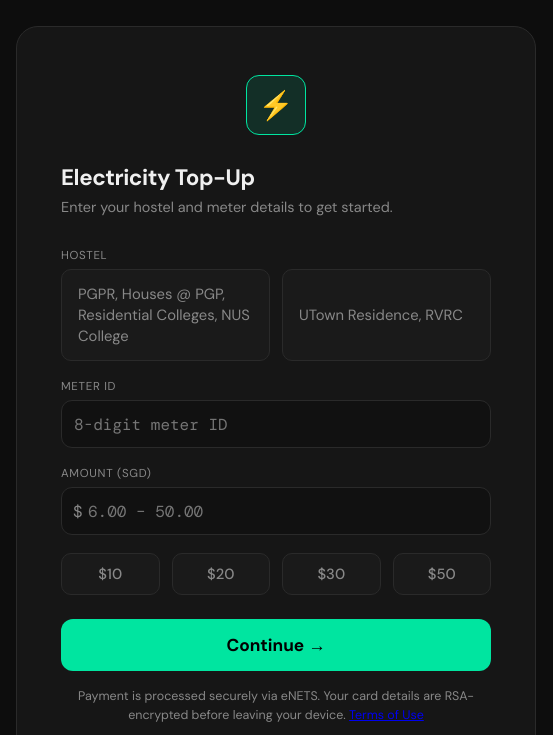
Test: HomePage › validation › shows all three errors when form is submitted empty
Click the button "Continue →": (276, 645) [61, 619, 491, 671]
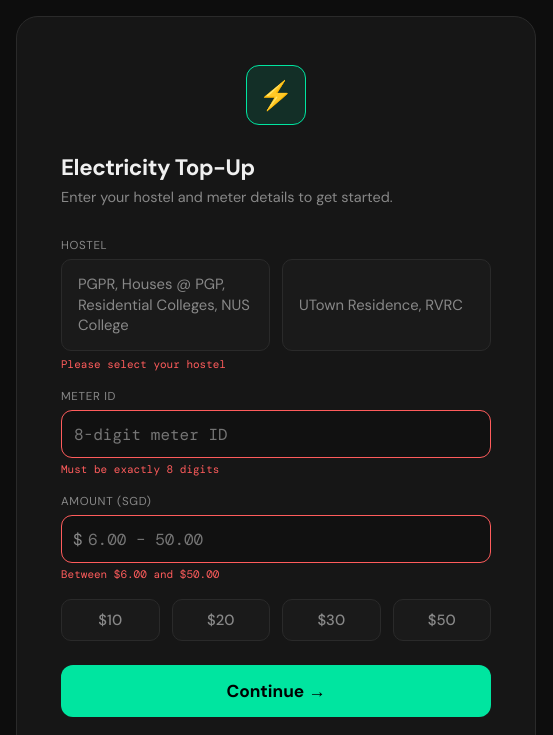
Check: the text "Please select your hostel" is shown, box [61, 357, 226, 371]
Check: the text "Must be exactly 8 digits" is shown, box [61, 462, 219, 476]
Check: the text "Between $6.00 and $50.00" is shown, box [61, 567, 219, 581]
